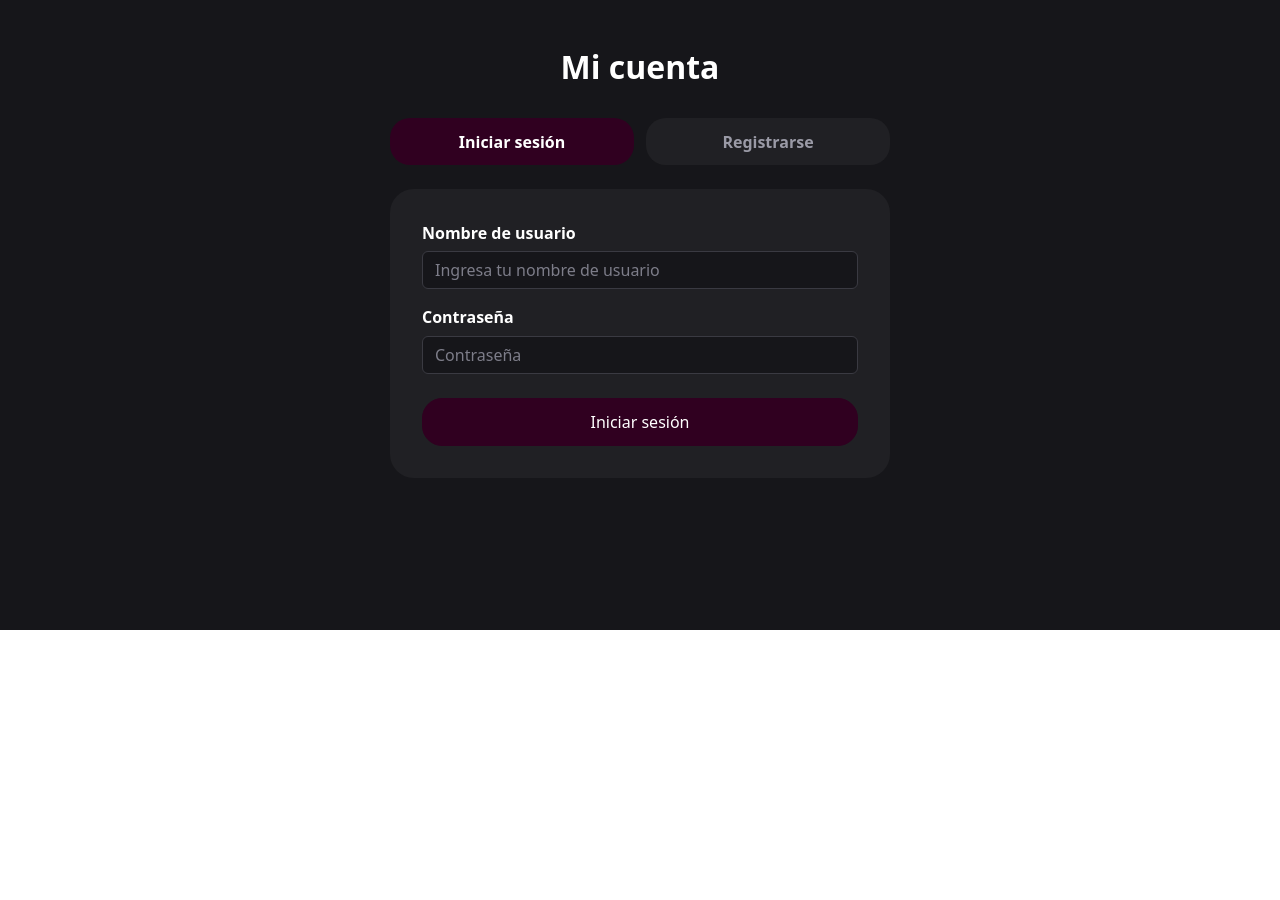
Login (page) › al hacer click en "Registrarse" cambia de pestaña y muestra el formulario de registro
Click the tab "Registrarse" at (768, 142), box [646, 118, 890, 165]
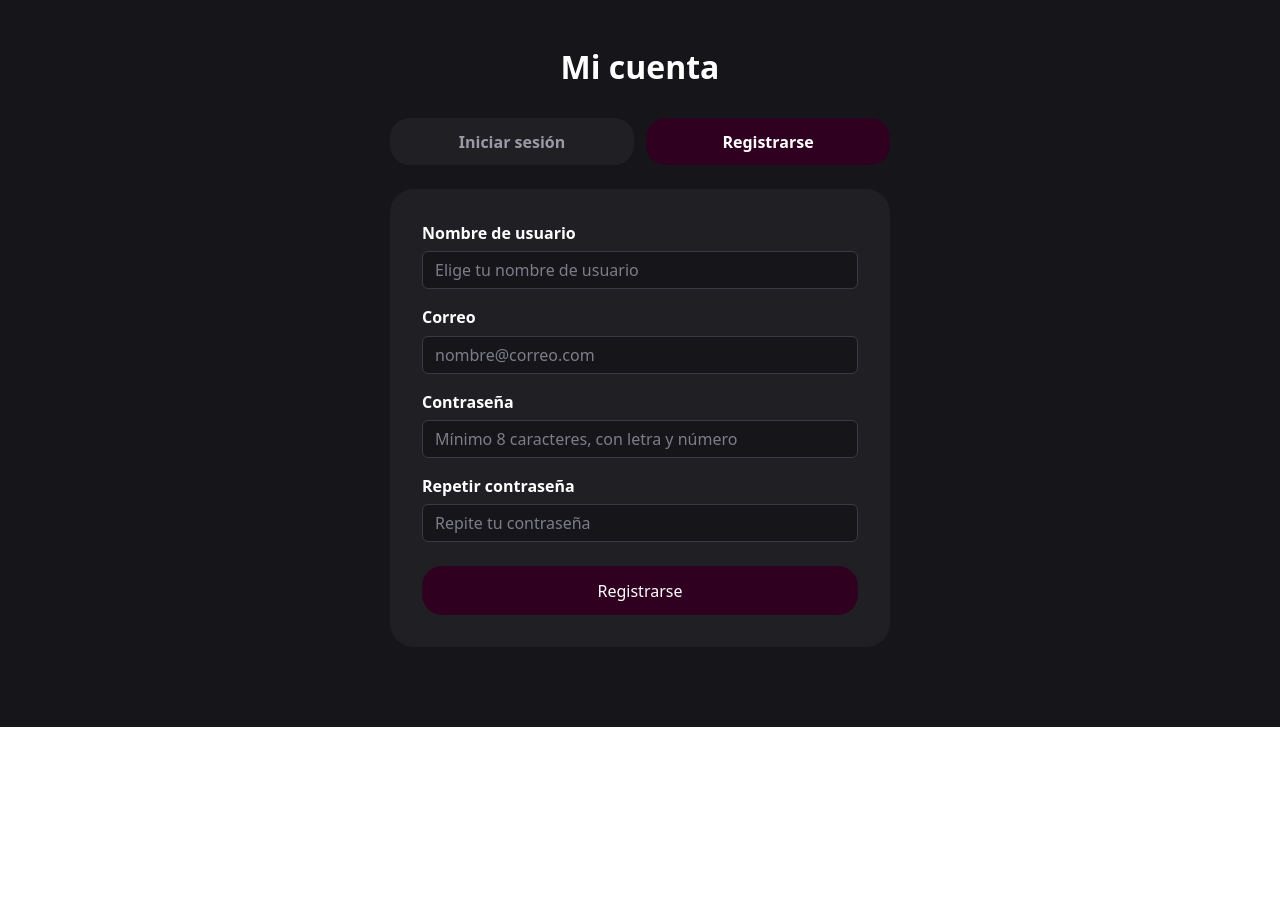
Now the password field labelled "Repetir contraseña" is shown, box [422, 504, 858, 542]
